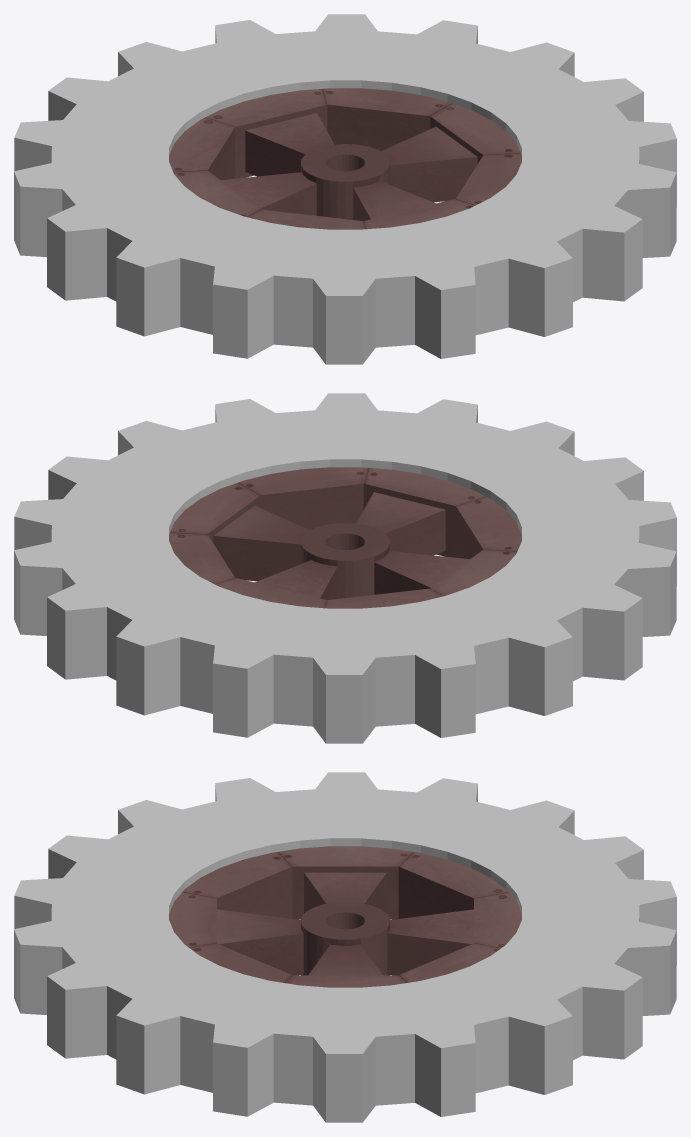
Rendered from newGear.dae.
3 views of the same model, one above another, from view 1: azimuth 30°, elevation 25°; view 2: azimuth 150°, elevation 25°; view 3: azimuth 270°, elevation 25° (orthographic).
Visible parts, largest first — view 1: Circle, Circle.002; view 2: Circle, Circle.002; view 3: Circle, Circle.002.
Boxes of the visible parts, x1,y1,x2,y2 form: Circle: [14, 14, 676, 364]; Circle.002: [169, 88, 521, 229]; Circle: [14, 393, 676, 743]; Circle.002: [169, 467, 521, 608]; Circle: [14, 772, 676, 1122]; Circle.002: [169, 846, 521, 987].
Bounding box in the file's own units: 2.56 × 2.54 × 0.2918.
